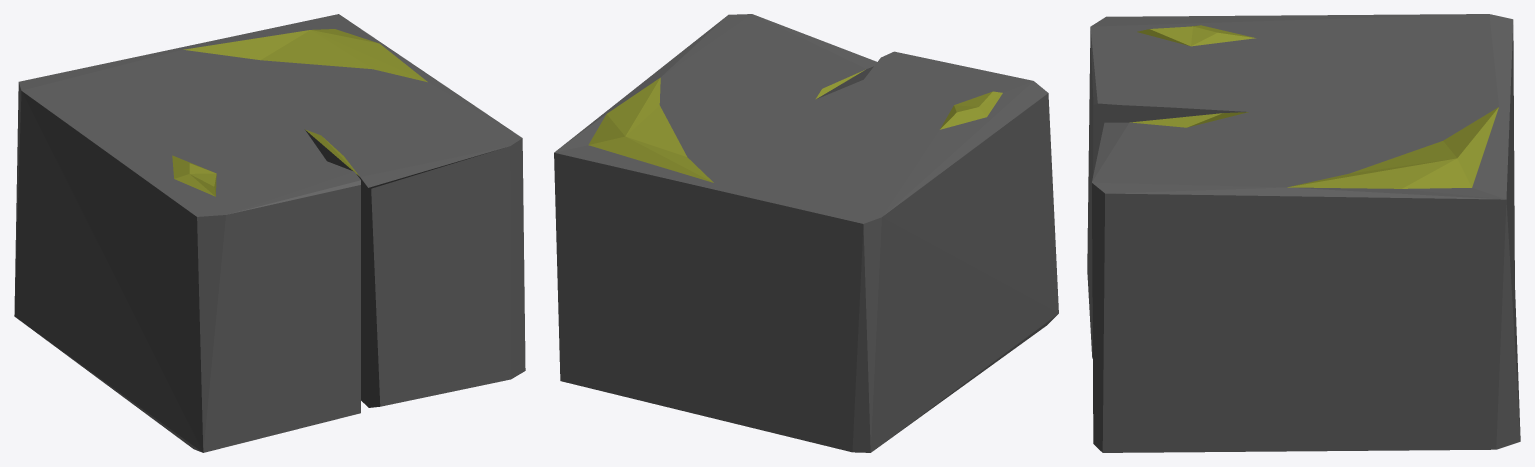
The model's file is tile_squared_moss_type_2_LOD2.fbx.
3 views of the same model, side by side, from view 1: azimuth 30°, elevation 25°; view 2: azimuth 150°, elevation 25°; view 3: azimuth 270°, elevation 25° (orthographic). The views are drawn at different scales.
Parts seen in each view (by area): view 1: tile_squared_moss_type_2; view 2: tile_squared_moss_type_2; view 3: tile_squared_moss_type_2.
Part boxes in pixels (x1,y1,x2,y2): tile_squared_moss_type_2: (14,14,525,452); tile_squared_moss_type_2: (554,14,1058,452); tile_squared_moss_type_2: (1087,14,1520,452).
Bounding box in the file's own units: 117 × 81.98 × 120.
